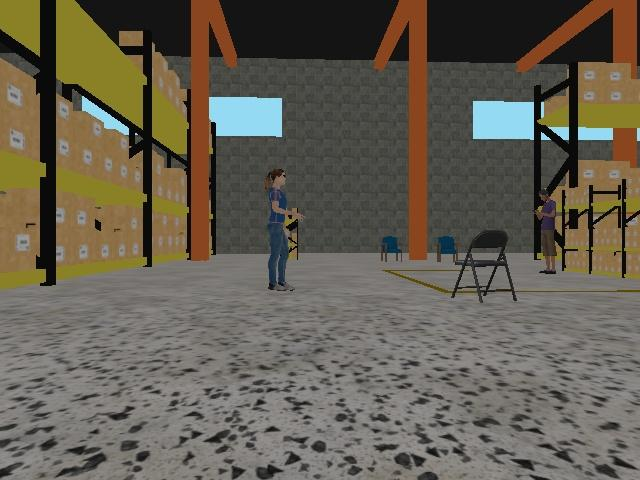chair: (451, 229, 517, 303), (379, 236, 404, 262), (436, 236, 458, 263)
person: (265, 168, 307, 291), (534, 189, 556, 275)
